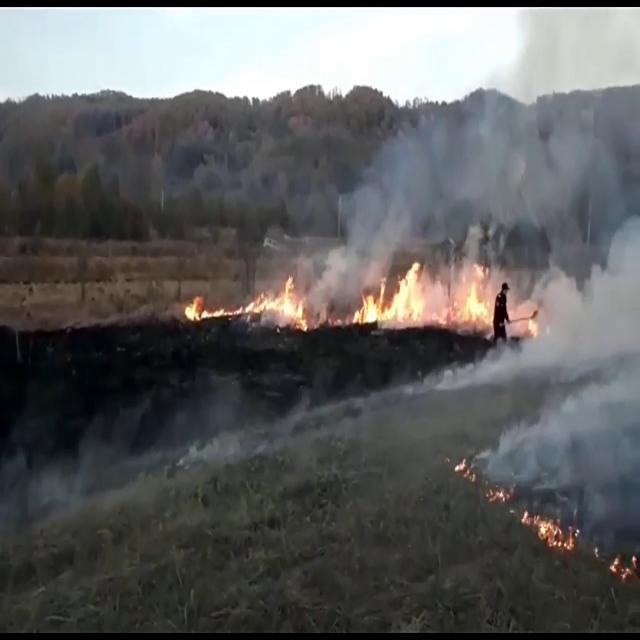Fire: (352, 244, 538, 338), (175, 276, 312, 330), (520, 502, 580, 557)
Smoke: (487, 7, 640, 534), (336, 11, 640, 268)
